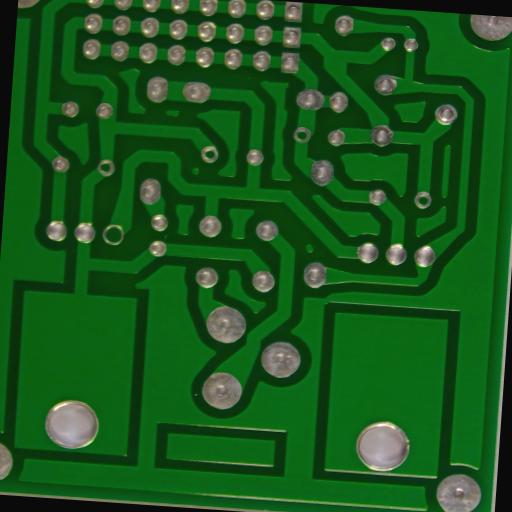missing_hole: (98, 222, 124, 248), (412, 190, 432, 209), (197, 145, 218, 163), (292, 126, 310, 143), (96, 160, 114, 176)
